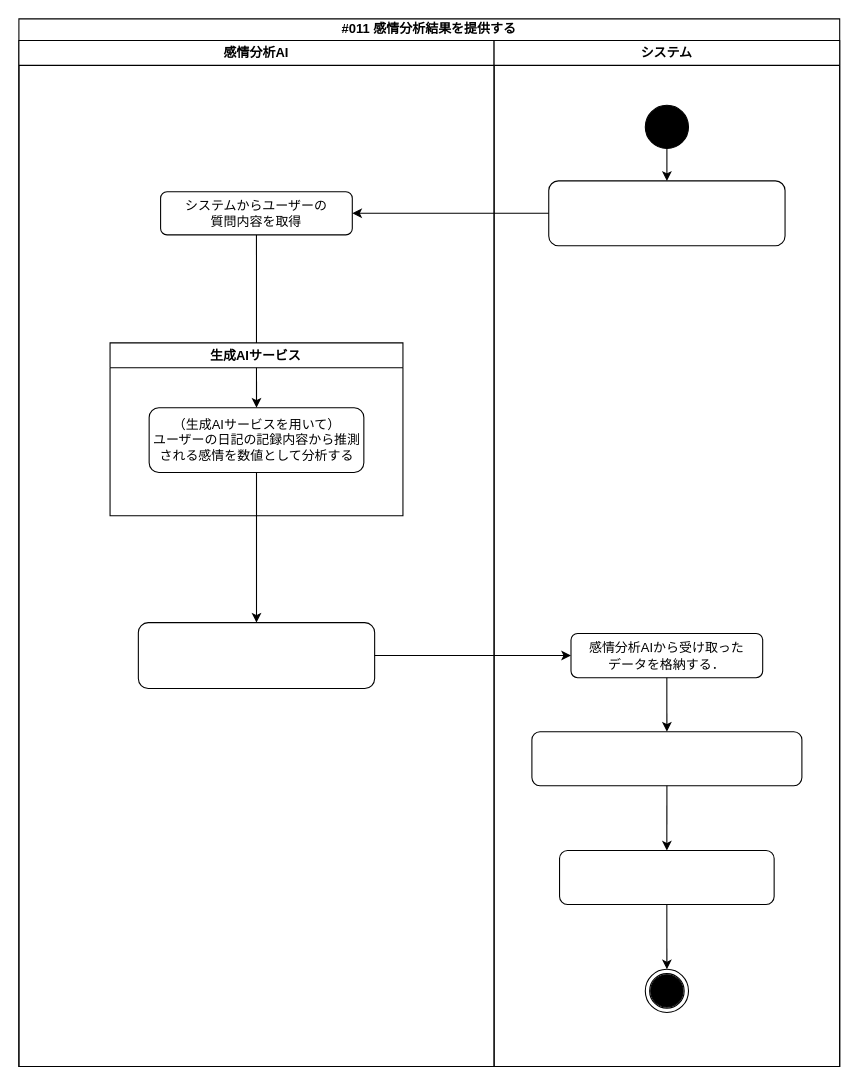
Image size: 859x1085. Some labels were removed from this diagram. The shapes that lost their labels are listed below. From the top down, each one's centre as x and y in pixels, then its label:
(x=666, y=213): ユーザーが投げかけた質問の内容 を感情分析AIへ送信
(x=256, y=655): 体裁を整えて， システムに生成結果をシステムに返す．
(x=666, y=758): 新しいデータを反映し， 可視化データ（グラフなど）を更新する．
(x=666, y=877): 「感情分析結果を表示する画面」 に出力する．
